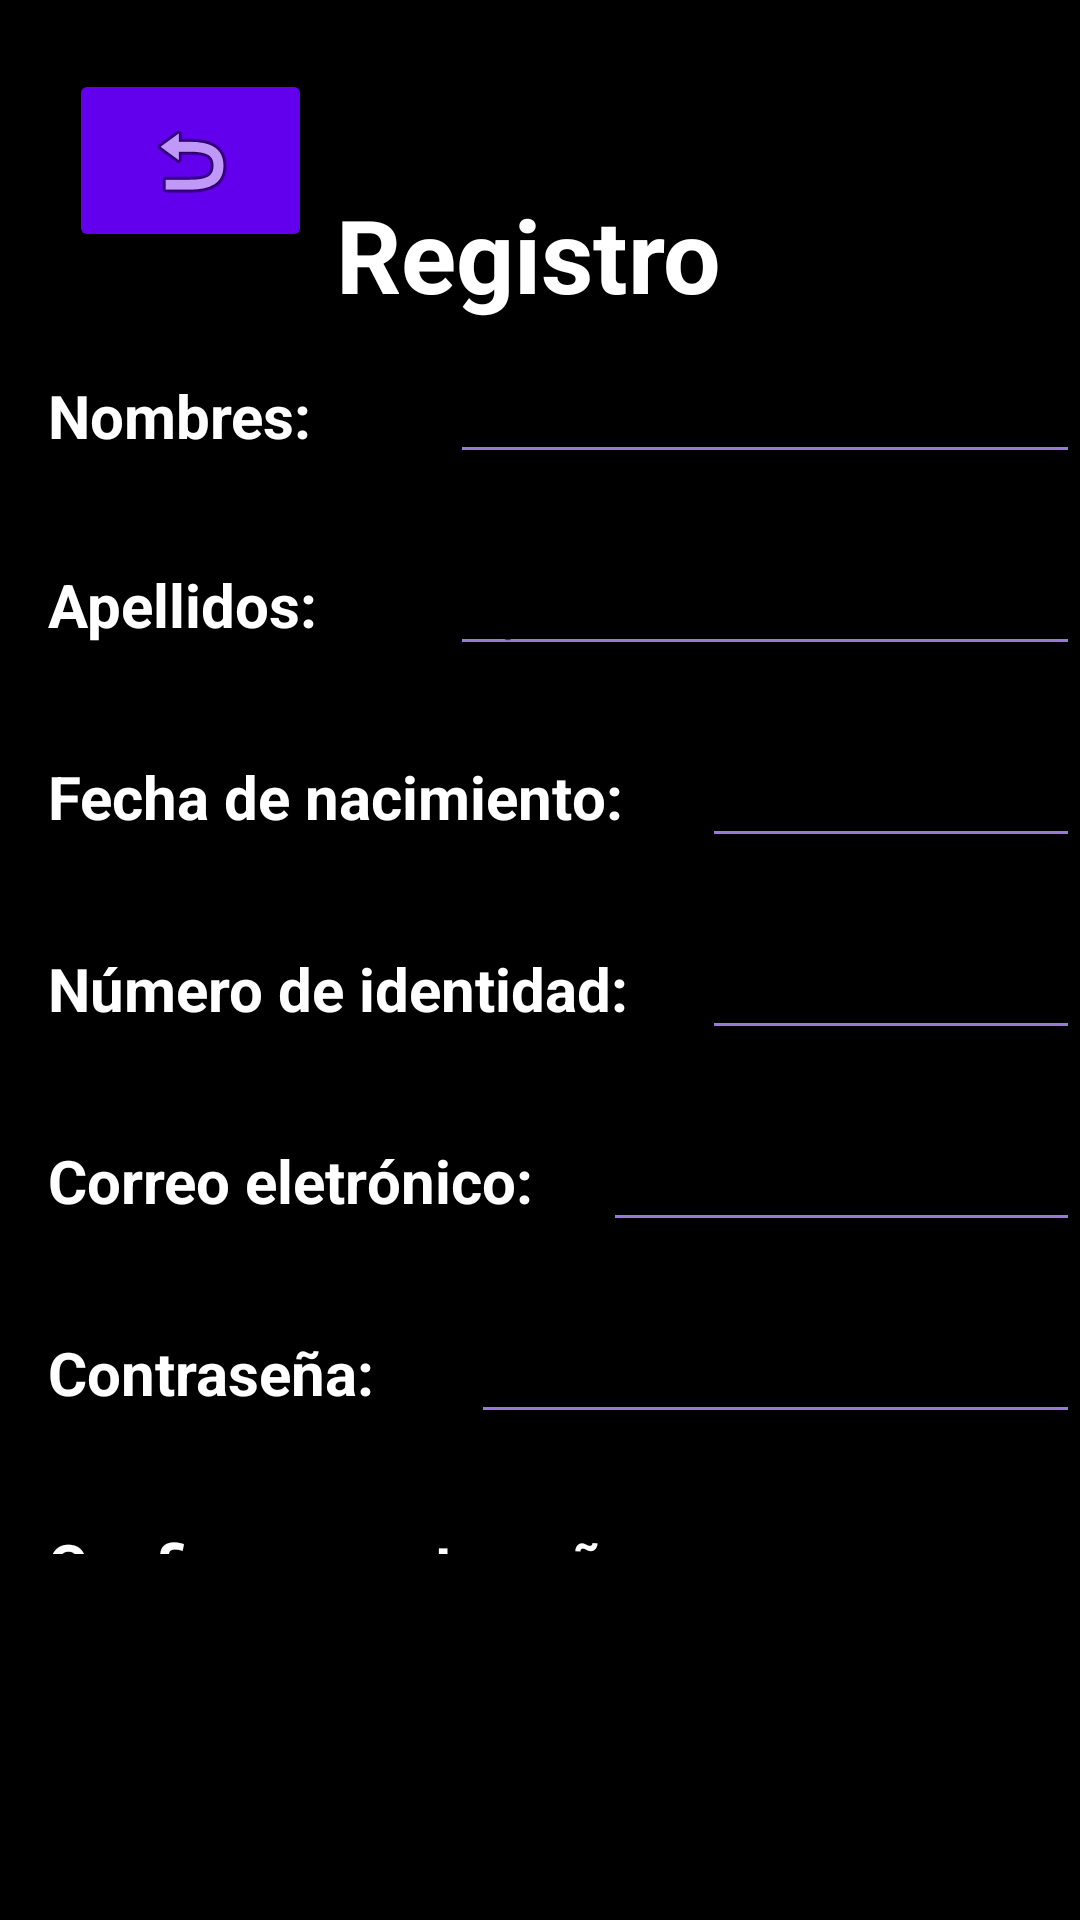

Where to tap for icons on this 1080w x 1920h app screen, as point (x, y):
revert: point (190, 160)
